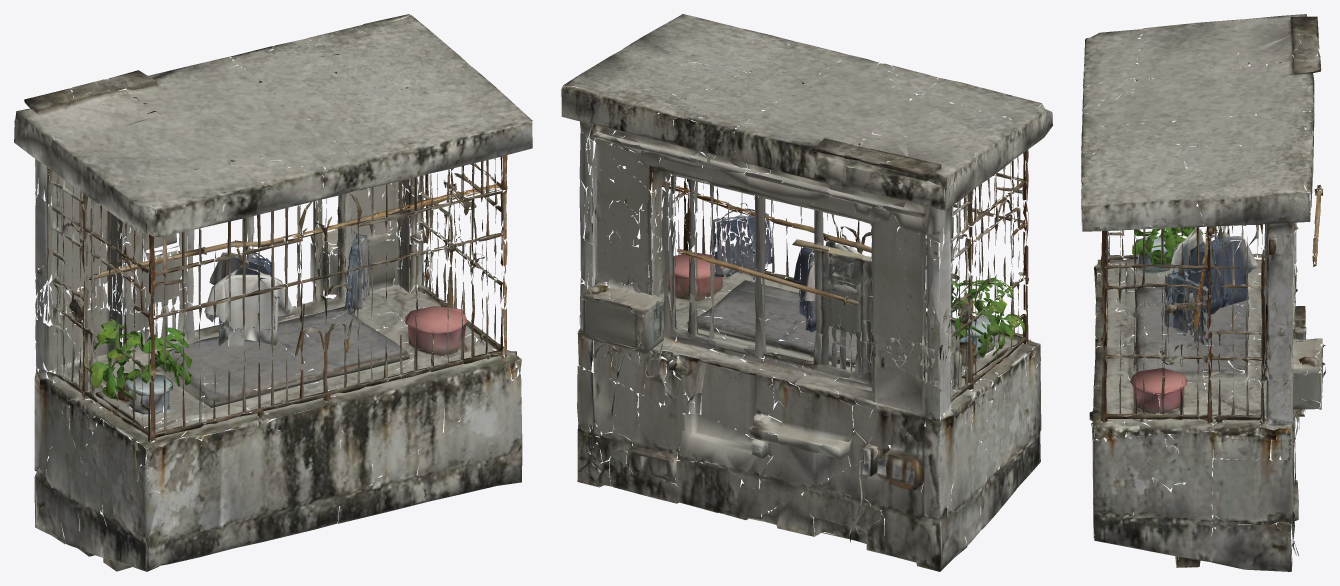
Rendered from m_balcony.glb.
The picture shows the model from 3 angles, left to right: view 1: azimuth 30°, elevation 25°; view 2: azimuth 150°, elevation 25°; view 3: azimuth 270°, elevation 25°; orthographic projection. The views are drawn at different scales.
Parts seen in each view (by area): view 1: tripo_node_38e309f7-eef2-4947-8aae-08b28b5c908d; view 2: tripo_node_38e309f7-eef2-4947-8aae-08b28b5c908d; view 3: tripo_node_38e309f7-eef2-4947-8aae-08b28b5c908d.
Boxes of the visible parts, bbox=[...] form: tripo_node_38e309f7-eef2-4947-8aae-08b28b5c908d: bbox=[14, 14, 532, 571]; tripo_node_38e309f7-eef2-4947-8aae-08b28b5c908d: bbox=[561, 14, 1052, 571]; tripo_node_38e309f7-eef2-4947-8aae-08b28b5c908d: bbox=[1081, 14, 1325, 571].
Bounding box in the file's own units: 2.27 × 2.13 × 1.21.
Materials: 1 (1 with a texture image).
